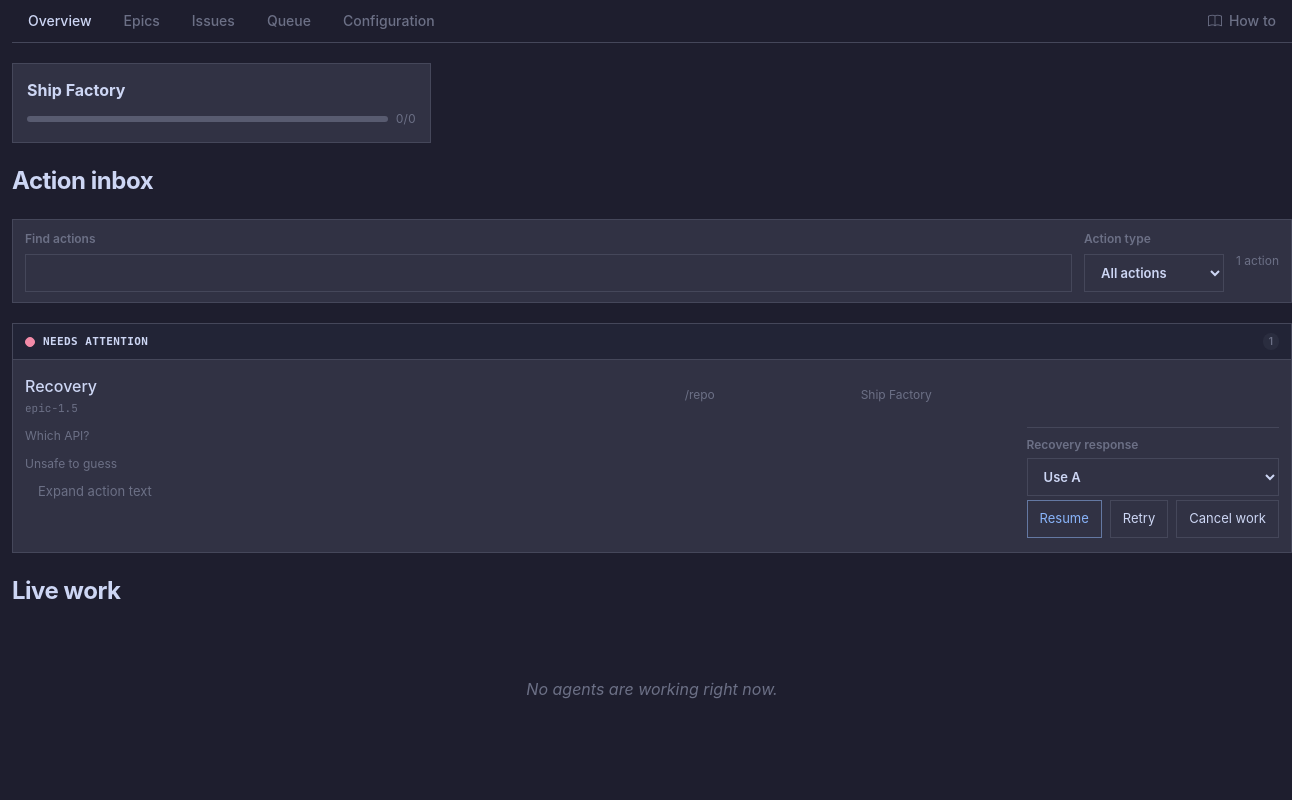
Factory interactions › keeps a failed recovery delivery actionable and removes it after success
This screenshot has width=1292, height=800.
Click the button "Resume".
click(1064, 519)  # box [1027,500,1102,538]
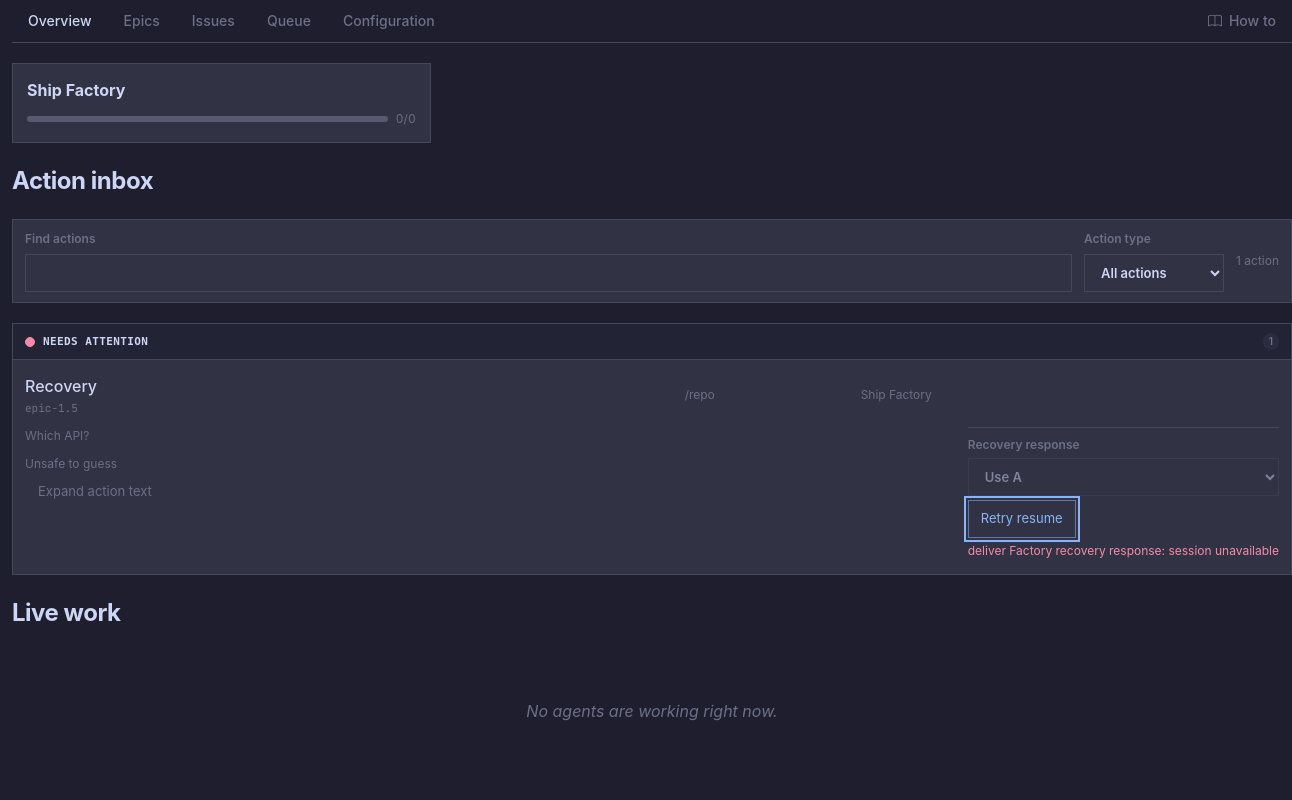
Check: the text "Which API?" is shown, box [25,428,90,443]
Check: the message shows "session unavailable", box [968,543,1279,558]
Click the button "Retry resume".
click(1022, 519)  # box [968,500,1076,538]
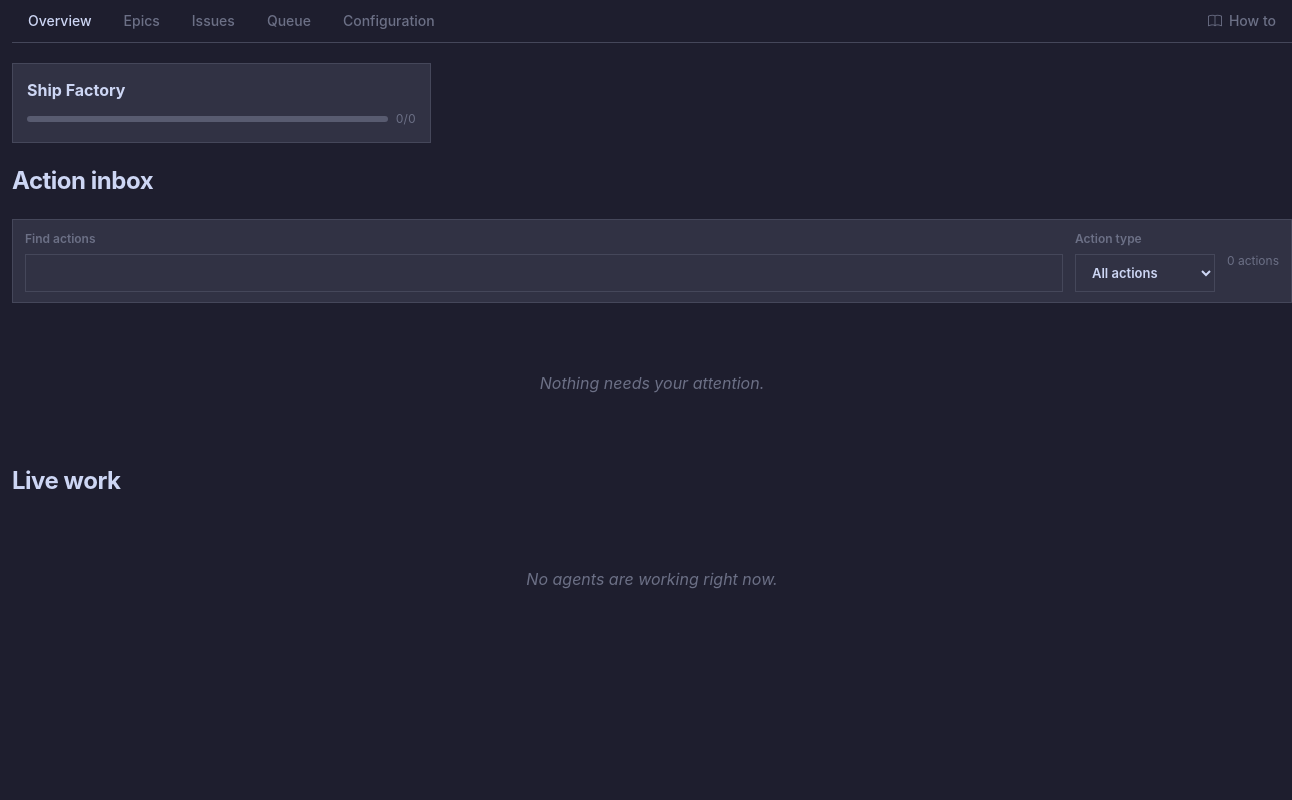
Check: the text "Which API?" is gone
